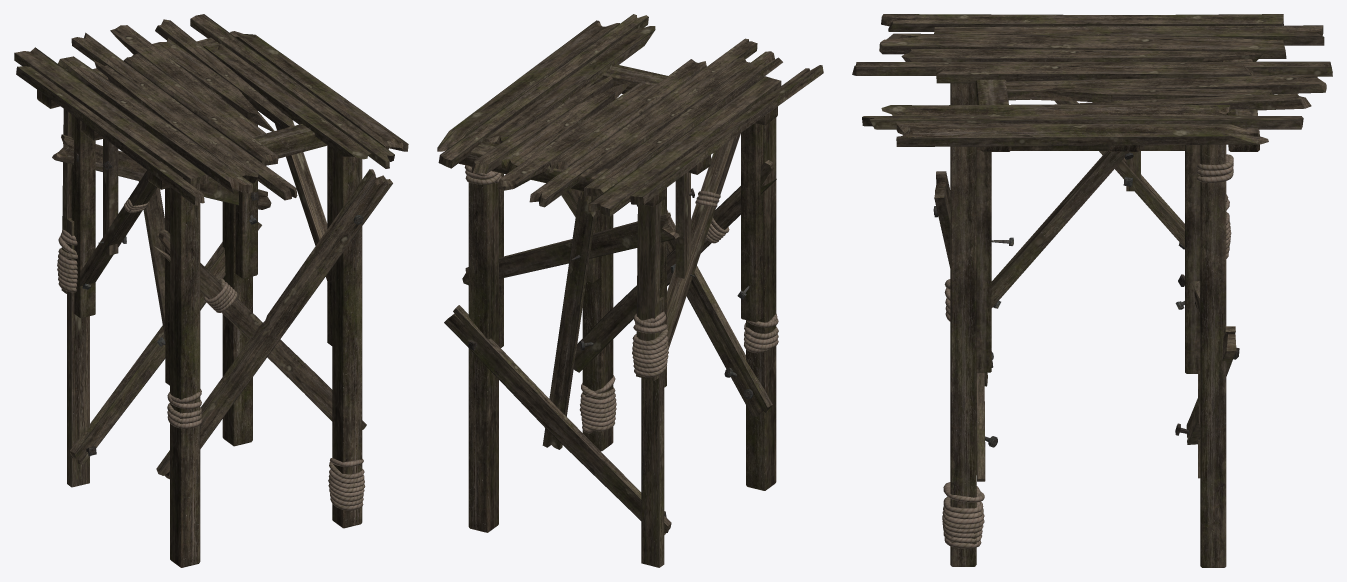
File: dock_main01.fbx
3 views of the same model, side by side, from view 1: azimuth 30°, elevation 25°; view 2: azimuth 150°, elevation 25°; view 3: azimuth 270°, elevation 25° (orthographic). The views are drawn at different scales.
Parts seen in each view (by area): view 1: dock_main01; view 2: dock_main01; view 3: dock_main01.
Boxes of the visible parts, <box> form: dock_main01: <box>14,14,408,567</box>; dock_main01: <box>437,14,823,567</box>; dock_main01: <box>852,14,1332,567</box>.
Bounding box in the file's own units: 425 × 729 × 710.
